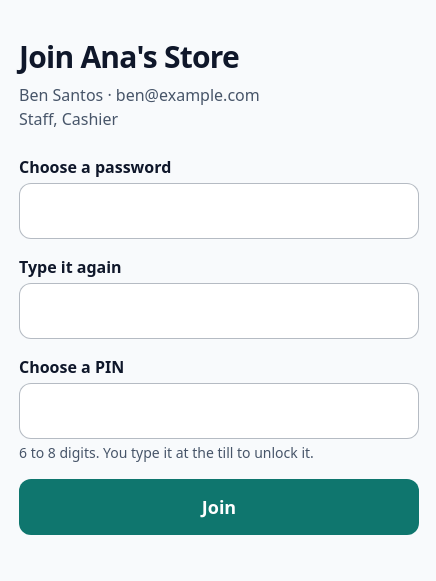
Scenario: EnrolPage › checks the password, the repeat and the PIN before sending anything
Expected: the heading "Join Ana's Store" is shown, [19,36,239,77]
Type "short" into the password field labelled "Choose a password" at x=219, y=211, box [19,183,419,239]
Click the button "Join" at x=219, y=507, box [19,479,419,535]
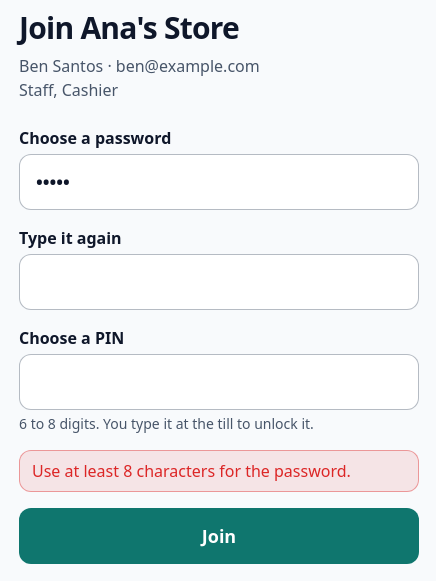
Expected: the message shows "at least 8 characters", [32,460,351,482]
Type "long enough pass" into the password field labelled "Choose a password" at x=219, y=182, box [19,154,419,210]
Type "different pass here" into the password field labelled "Type it again" at x=219, y=282, box [19,254,419,310]
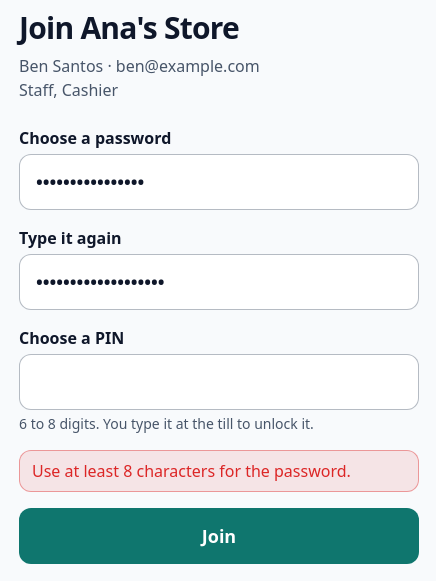
Click the button "Join" at x=219, y=536, box [19,508,419,564]
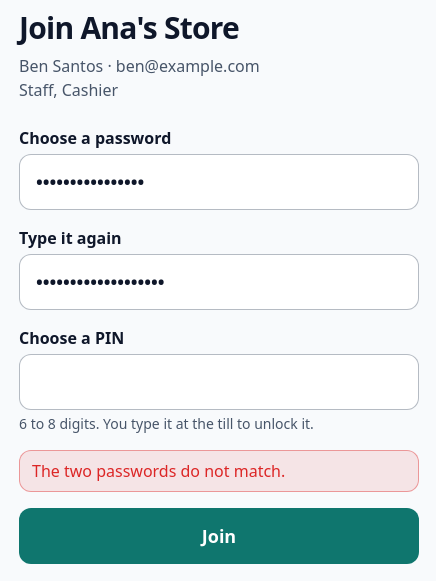
Expected: the text "The two passwords do not match." is shown, [19,450,419,492]
Type "long enough pass" into the password field labelled "Type it again" at x=219, y=282, box [19,254,419,310]
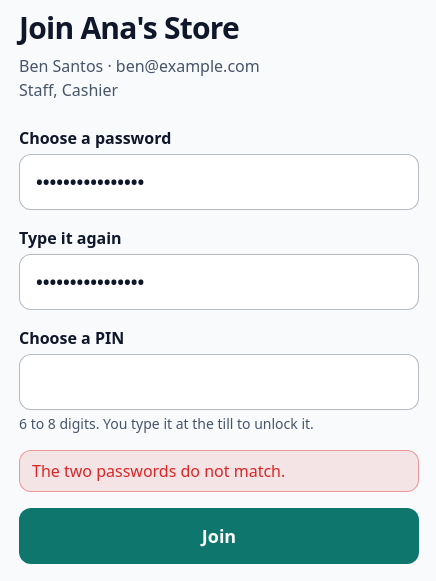
Type "12" into the 3rd password field at x=219, y=382, box [19,354,419,410]
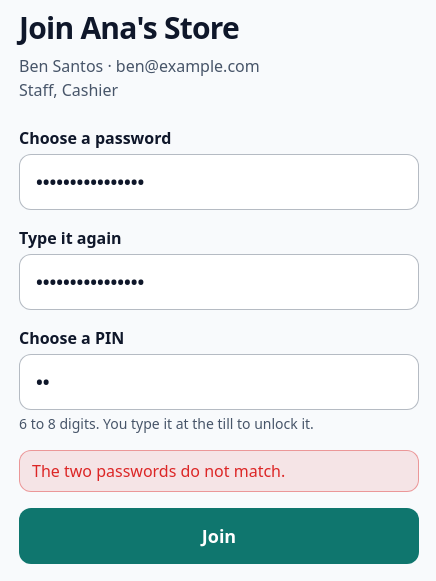
Click the button "Join" at x=219, y=536, box [19,508,419,564]
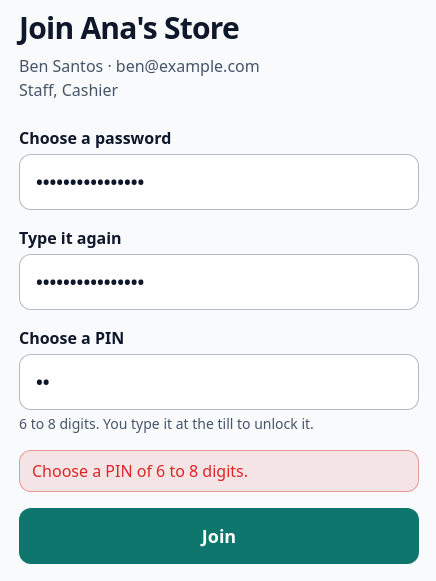
Expected: the text "Choose a PIN of 6 to 8 digits." is shown, [19,450,419,492]
